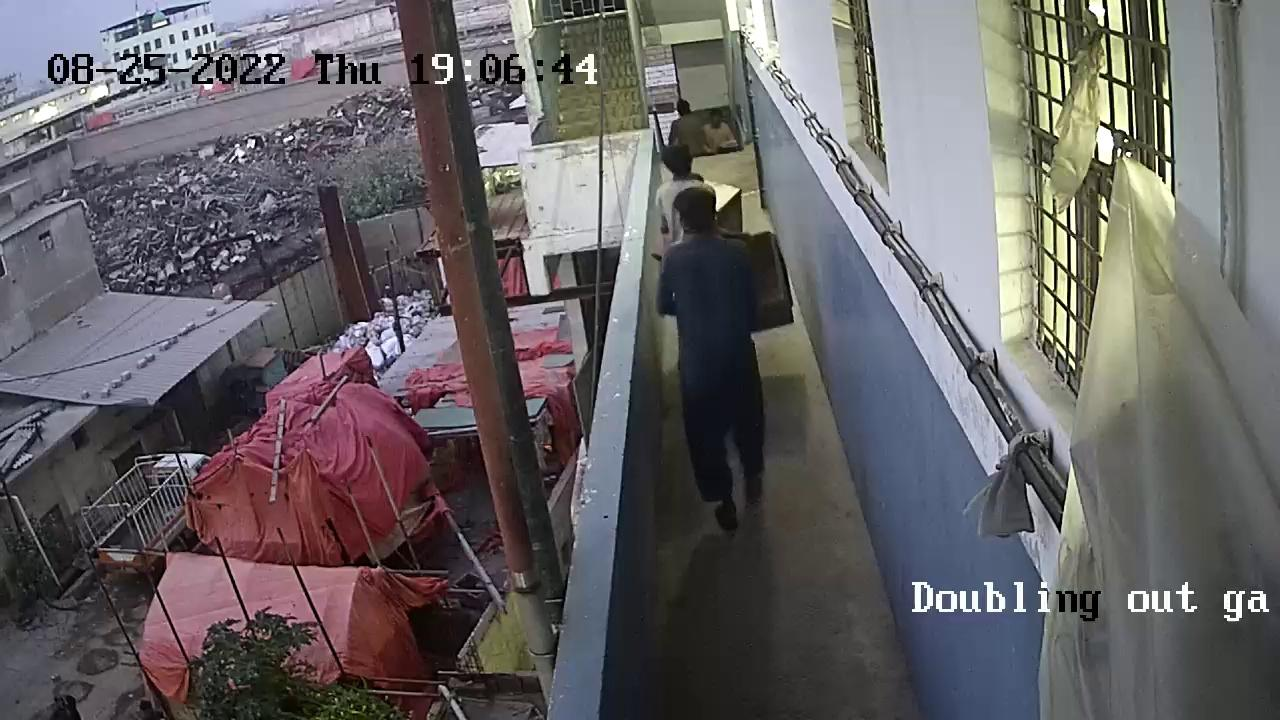person: (669, 195, 771, 522), (658, 152, 709, 241), (668, 101, 699, 149), (703, 108, 735, 152)
